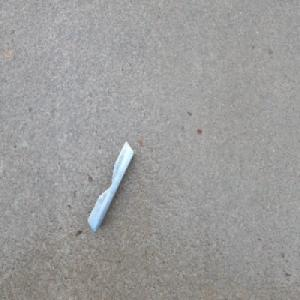ClampPart: (86, 138, 134, 233)
